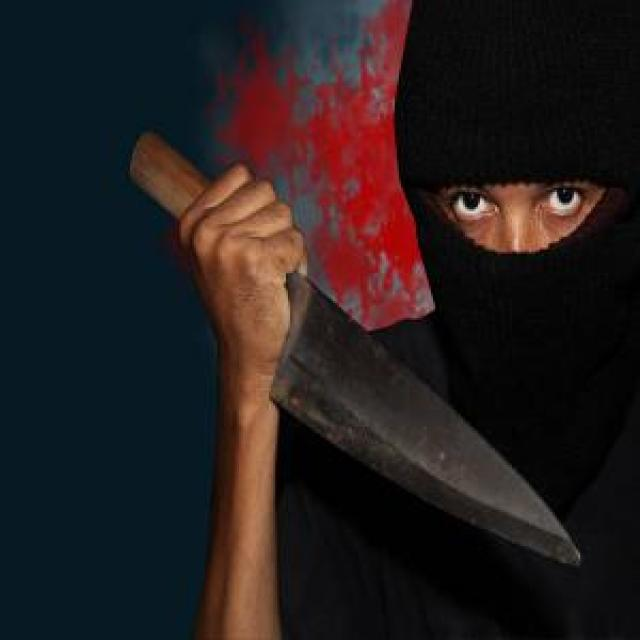knife: (130, 126, 581, 571)
